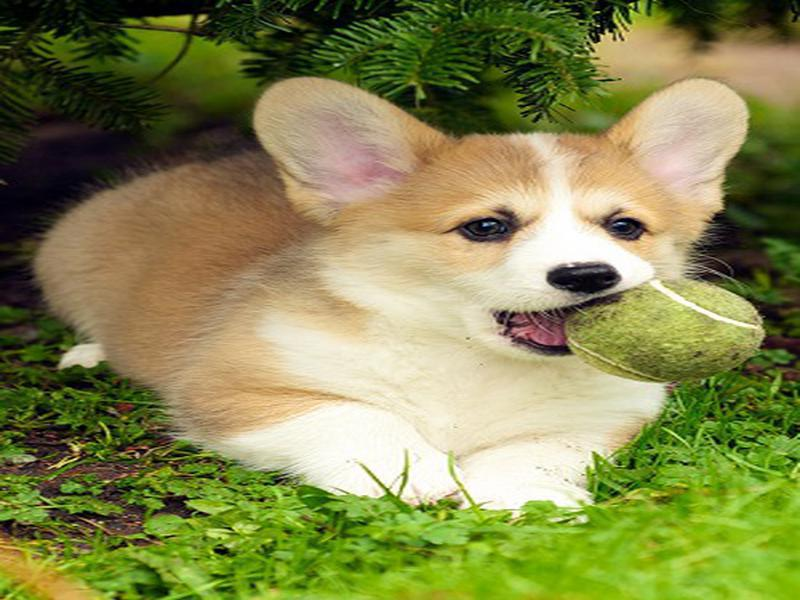corgi: (253, 75, 753, 367)
